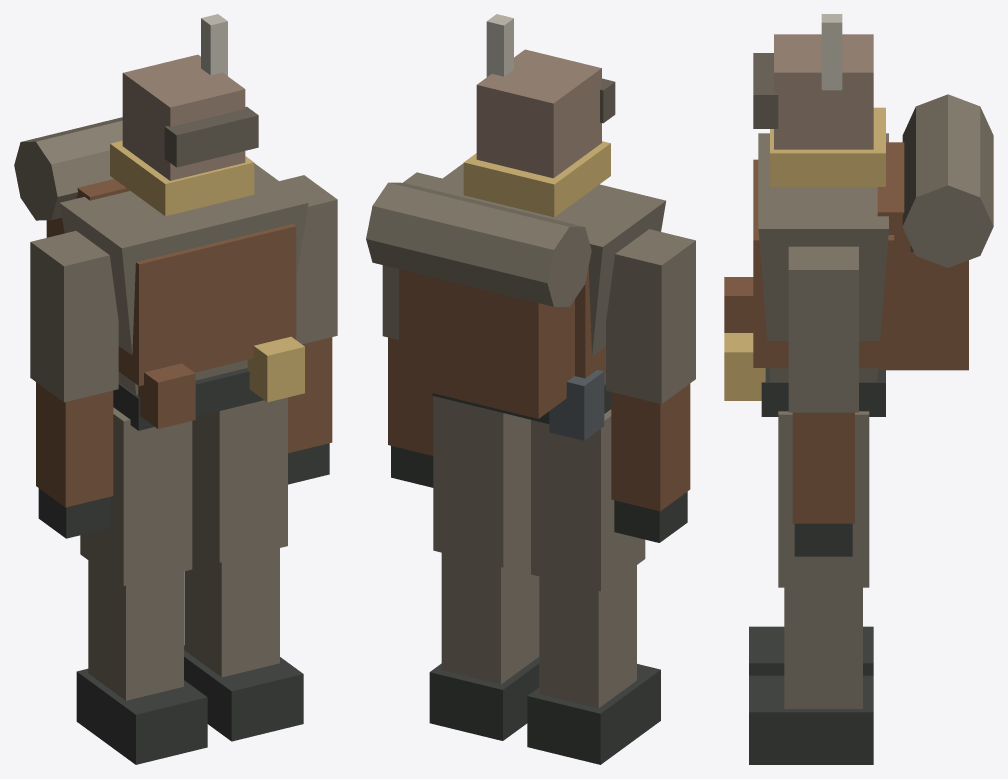
Rendered from soldier_scour.glb.
3 views of the same model, side by side, from view 1: azimuth 30°, elevation 25°; view 2: azimuth 150°, elevation 25°; view 3: azimuth 270°, elevation 25° (orthographic). The views are drawn at different scales.
Parts seen in each view (by area): view 1: carrier, thighL, chest, thighR, upperarmR, shinR, shinL, skull, forearmR, bootR, bootL, bedroll (+11 smaller); view 2: pack, bedroll, thighL, upperarmR, thighR, skull, shinR, shinL, forearmR, bootR, chest, bootL (+10 smaller); view 3: bedroll, chest, upperarmL, pack, skull, shinL, bootL, thighL, forearmL, headwrap, carrier, pouch_l (+6 smaller).
Boxes of the visible parts, x1,y1,x2,y2 form: carrier: [118, 224, 296, 386]; thighL: [192, 397, 287, 562]; chest: [59, 163, 308, 394]; thighR: [80, 407, 192, 585]; upperarmR: [30, 231, 118, 402]; shinR: [88, 560, 183, 700]; shinL: [184, 543, 279, 677]; skull: [122, 54, 245, 180]; forearmR: [36, 382, 113, 507]; bootR: [76, 668, 207, 764]; bootL: [184, 645, 303, 741]; bedroll: [14, 117, 122, 220]; pack: [399, 269, 574, 418]; bedroll: [366, 182, 591, 307]; thighL: [433, 396, 530, 567]; upperarmR: [606, 229, 695, 404]; thighR: [531, 409, 645, 591]; skull: [476, 49, 601, 178]; shinR: [539, 565, 636, 708]; shinL: [441, 547, 539, 684]; forearmR: [611, 383, 690, 511]; bootR: [527, 664, 660, 764]; chest: [428, 163, 665, 384]; bootL: [429, 657, 539, 740]; bedroll: [902, 94, 993, 267]; chest: [758, 133, 888, 381]; upperarmL: [788, 246, 858, 412]; pack: [877, 142, 968, 370]; skull: [774, 34, 873, 149]; shinL: [784, 587, 862, 708]; bootL: [749, 675, 873, 764]; thighL: [778, 411, 869, 587]; forearmL: [792, 412, 854, 523]; headwrap: [770, 107, 885, 186]; carrier: [753, 159, 894, 367]; pouch_l: [724, 333, 765, 400].
Bounding box in the file's own units: 0.8 × 1.92 × 0.65.
